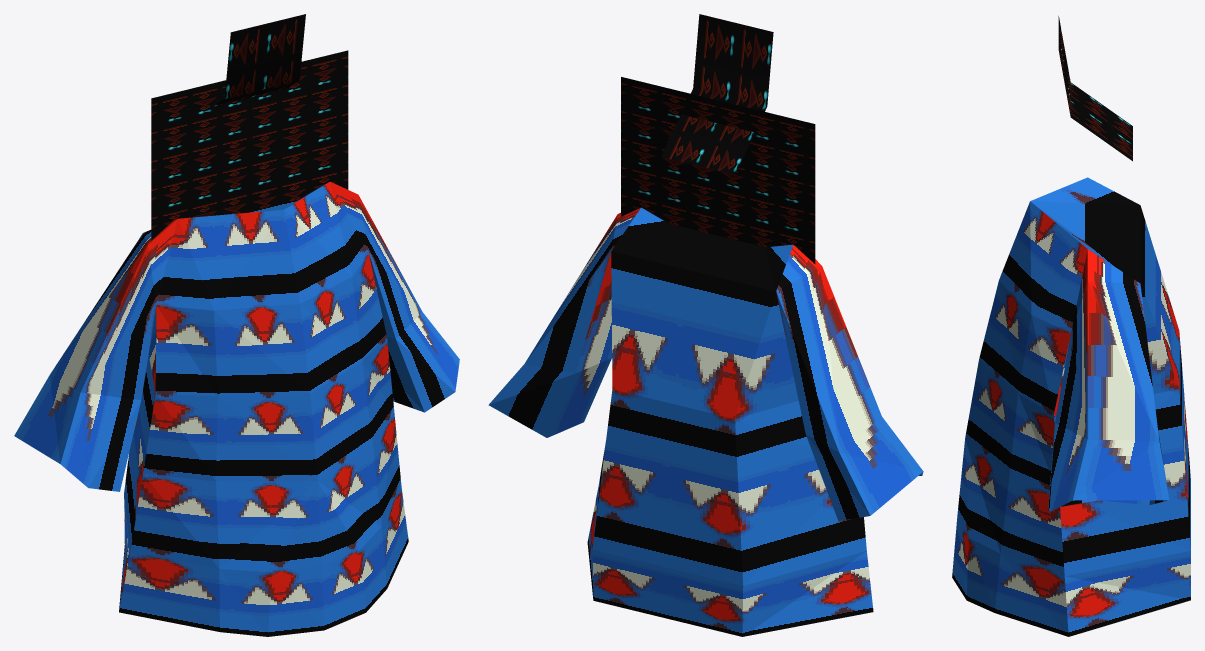
The model's file is clo_dress01.gltf.
3 views of the same model, side by side, from view 1: azimuth 30°, elevation 25°; view 2: azimuth 150°, elevation 25°; view 3: azimuth 270°, elevation 25° (orthographic). The views are drawn at different scales.
Visible parts, largest first — view 1: clo_dress01; view 2: clo_dress01; view 3: clo_dress01.
Boxes of the visible parts, box(x1,y1,x2,y2) form: clo_dress01: box(14, 14, 459, 636); clo_dress01: box(488, 14, 923, 636); clo_dress01: box(952, 16, 1190, 636).
Size of the model in its own units: 0.7539 by 1.03 by 0.4075.
Materials: 2 (2 with a texture image).
